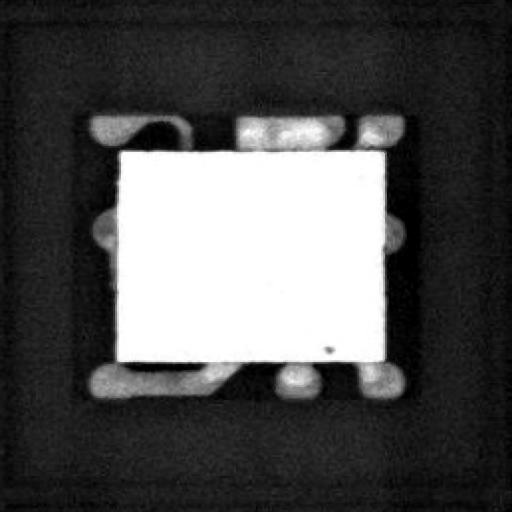DIE_INK: (306, 355, 320, 371)
